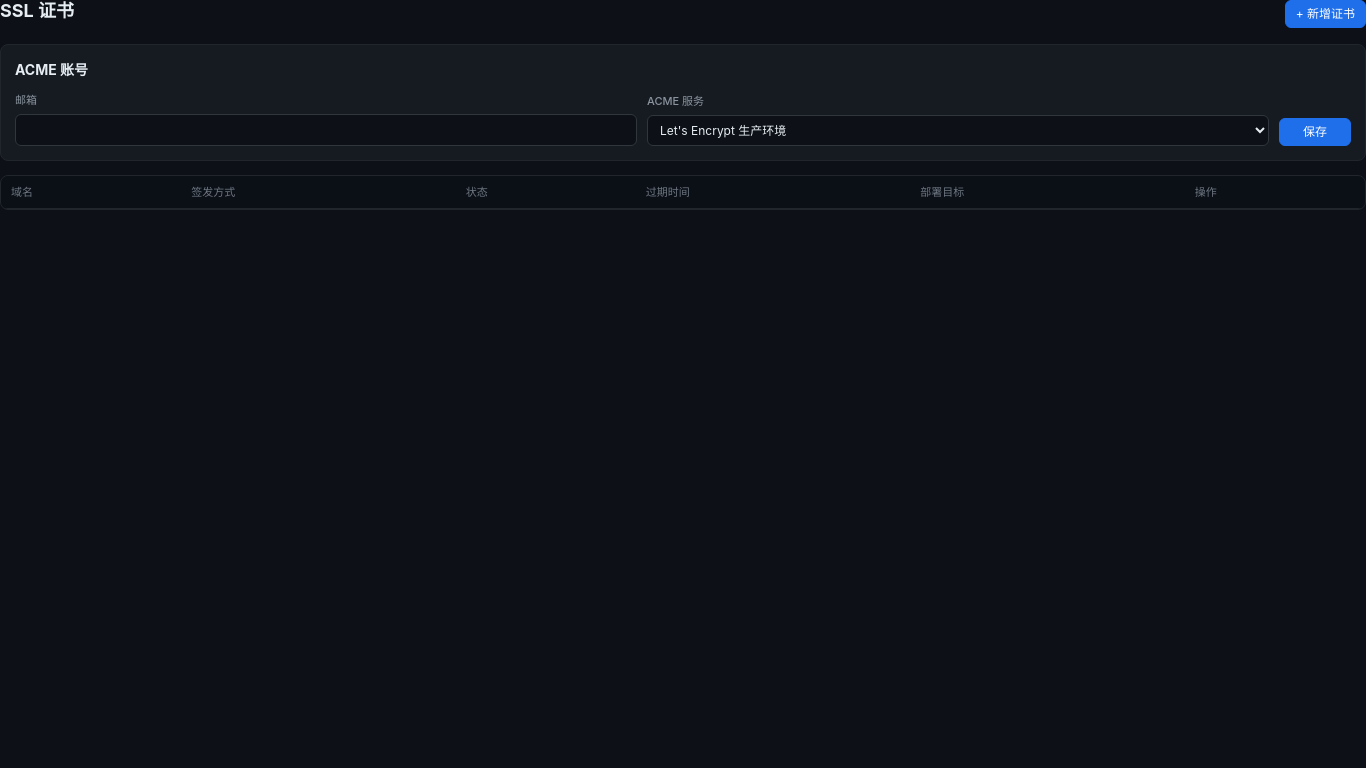
it: CertificateTab › uses shared settings surfaces, table, and modal classes
The width and height of the screenshot is (1366, 768).
Check: the header with class "settings-pane-header" is shown, box [0,0,1365,28]
Check: the element with class "settings-section" is shown, box [0,44,1365,160]
Click the button with test id "cert-add".
click(1325, 14)  # box [1285,0,1365,28]
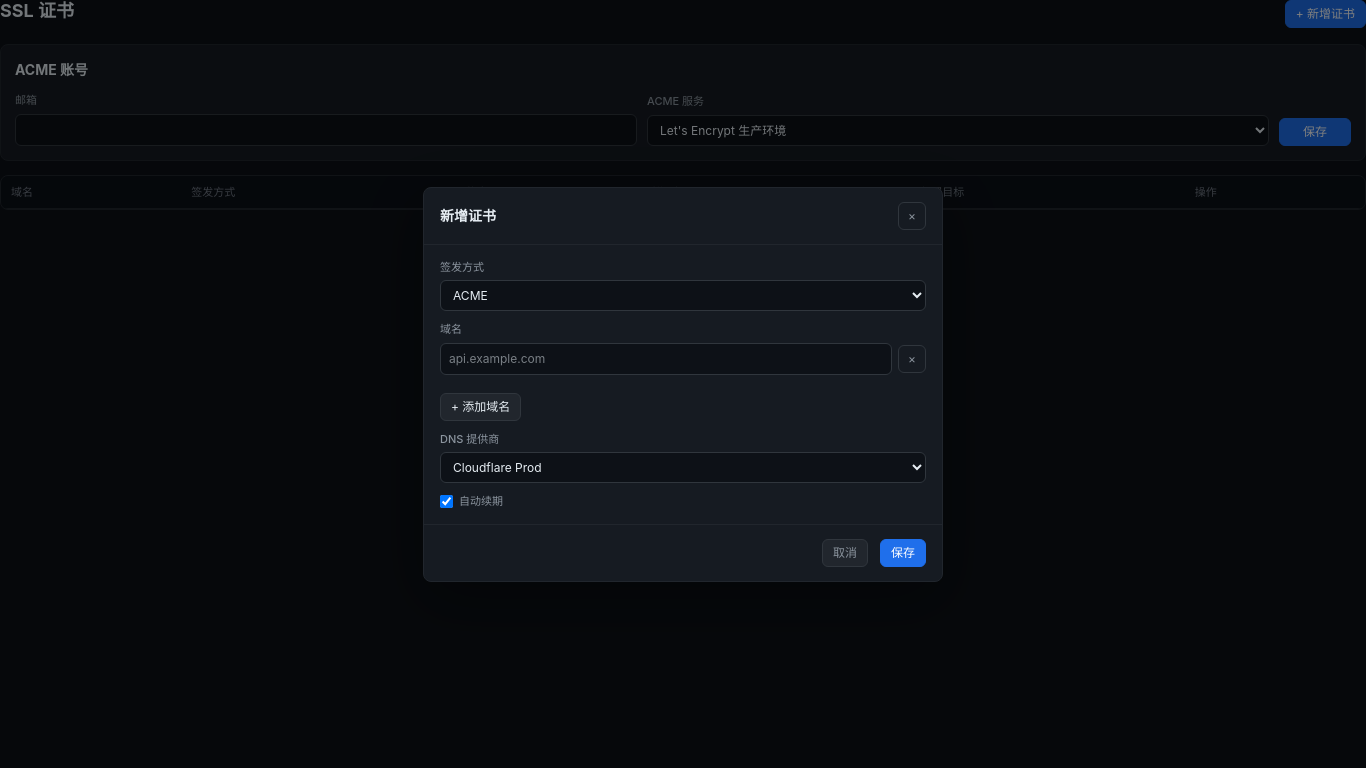
Check: the element with class "settings-modal-backdrop" is shown
Check: the element with class "settings-modal" is shown, box [423,186,943,582]
